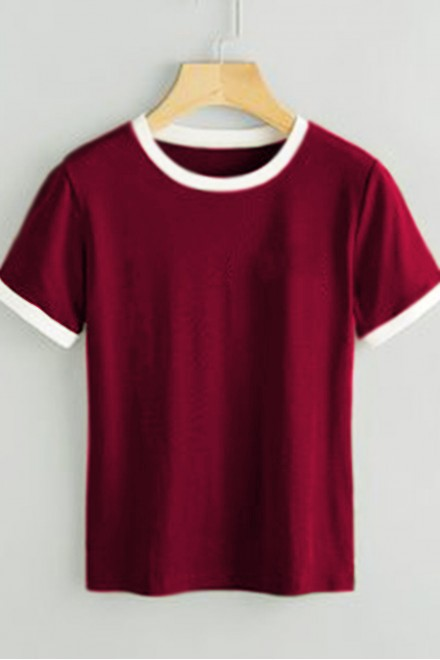T-Shirt: (2, 109, 440, 604)
